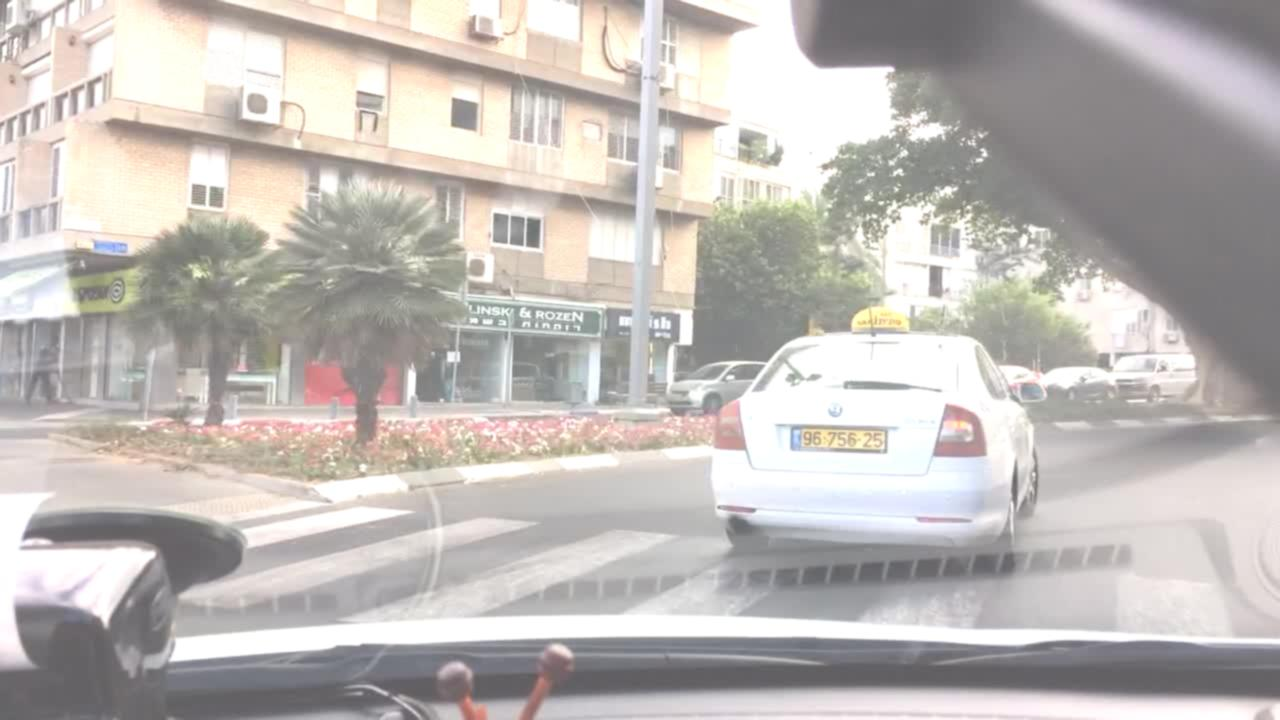skoda: (827, 401, 845, 418)
